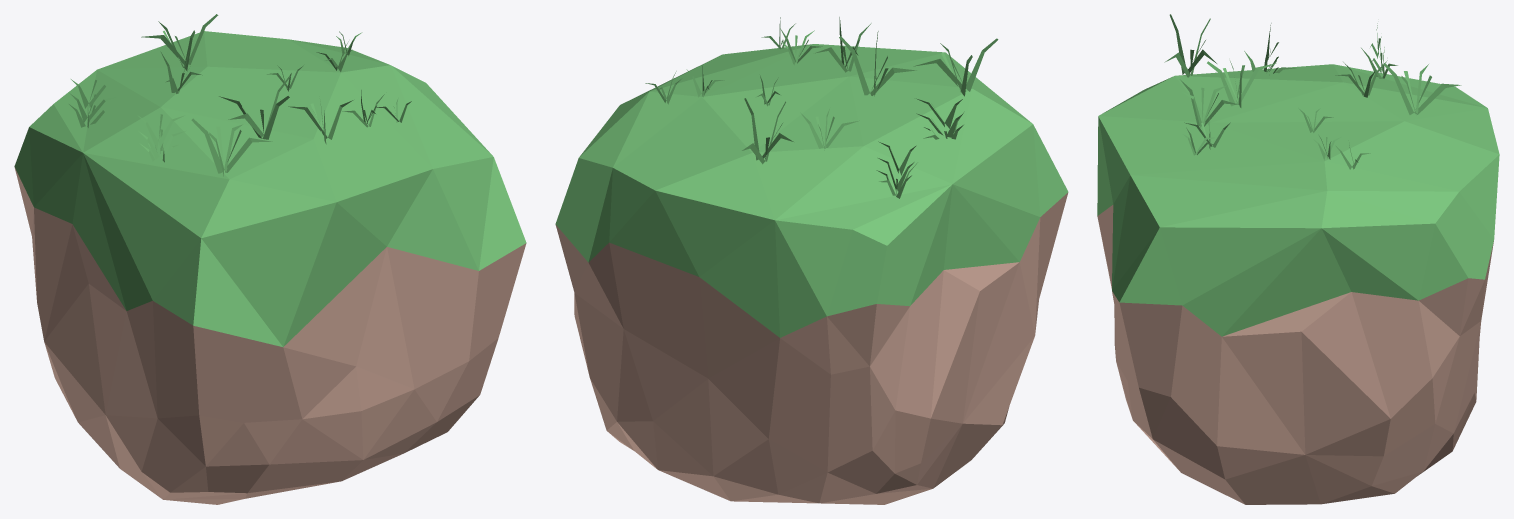
File: Grass.fbx
The picture shows the model from 3 angles, left to right: view 1: azimuth 30°, elevation 25°; view 2: azimuth 150°, elevation 25°; view 3: azimuth 270°, elevation 25°; orthographic projection. The views are drawn at different scales.
Visible parts, largest first — view 1: Grass; view 2: Grass; view 3: Grass.
Boxes of the visible parts, bbox=[...] form: Grass: bbox=[14, 14, 526, 504]; Grass: bbox=[555, 17, 1068, 504]; Grass: bbox=[1097, 14, 1499, 504].
Size of the model in its own units: 98.25 by 114 by 102.
